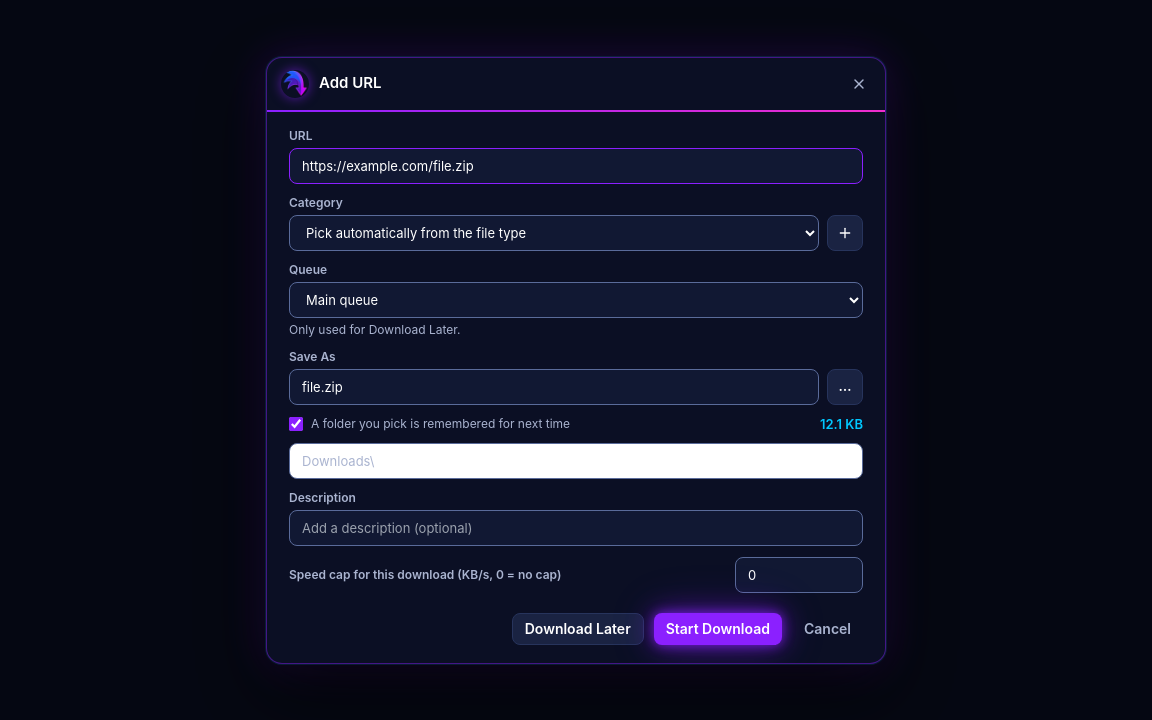
Test: Remember this path checkbox › unchecked + "..." pick uses the folder once and remembers nothing
Later steps or results of the test are not shown.
Click the button named "Choose folder".
click(845, 386)  # box 827,368 -> 863,404
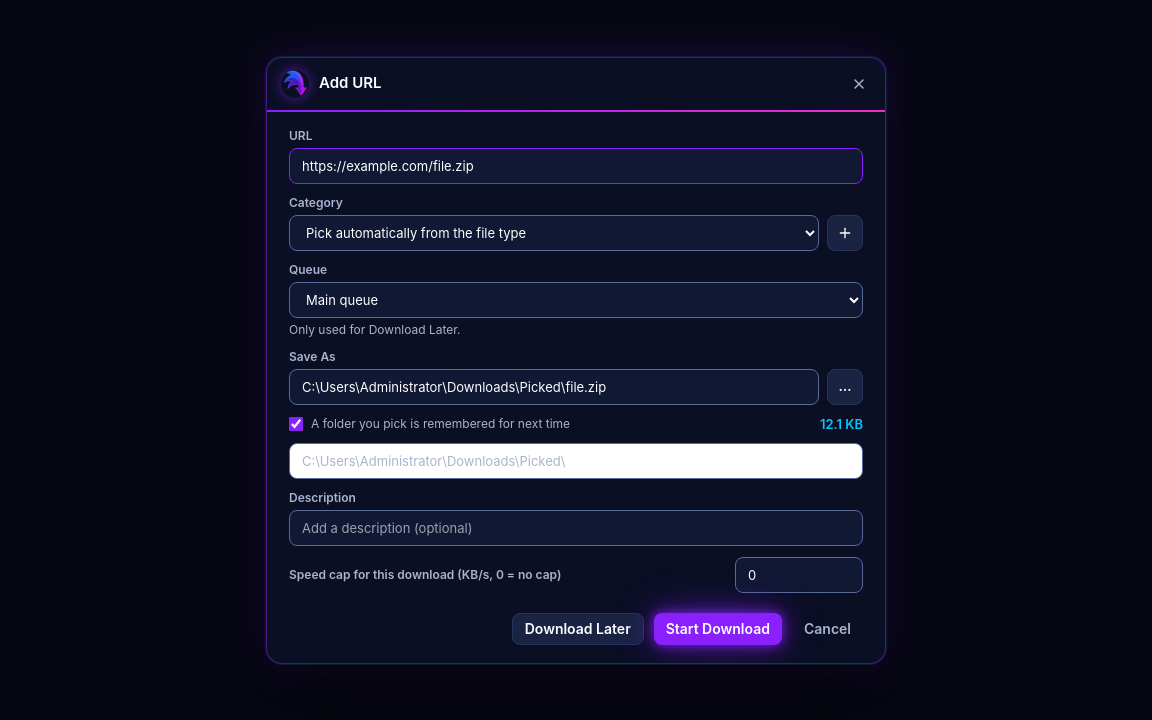
Click the checkbox named "Remember this path".
click(296, 424)  # box 289,416 -> 303,430
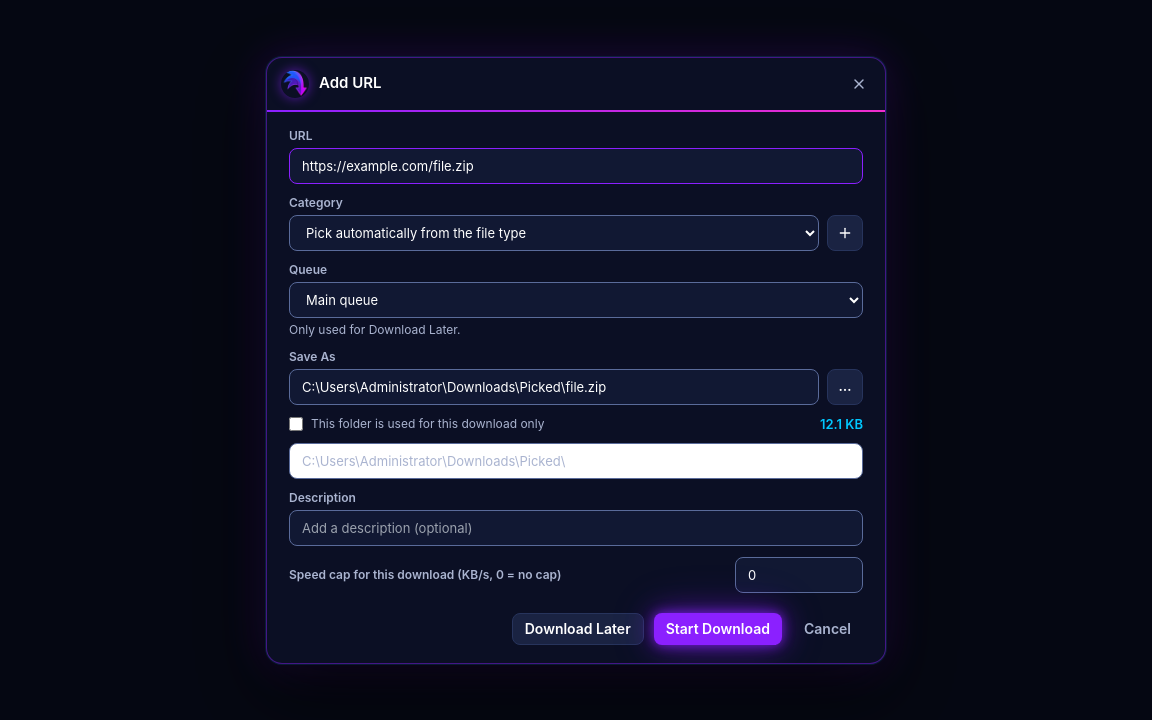
Expected: the text "This folder is used for this download only" is shown, 311,416 -> 544,432
